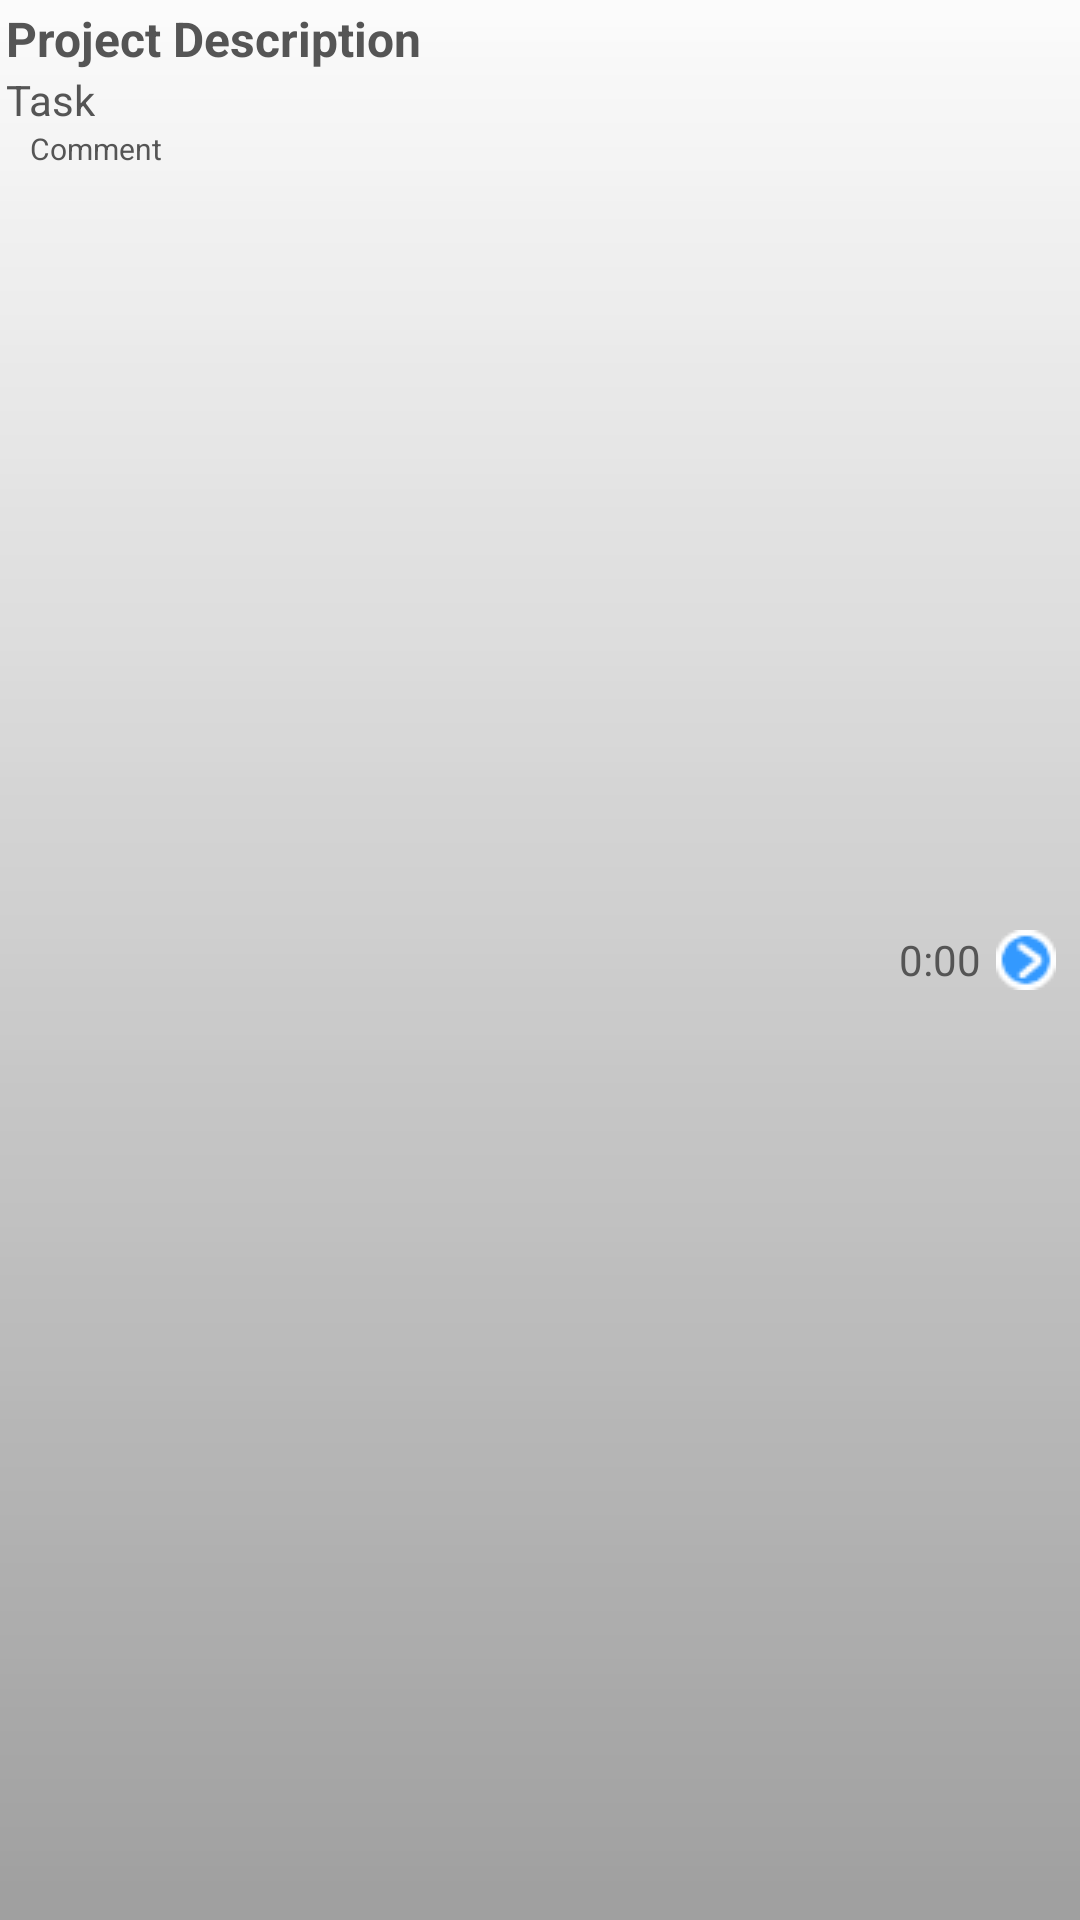

Icons on this 1080x1920 Android screen, each with its box as (x1, y1, x2, y2):
editarrow: (996, 930, 1056, 990)
